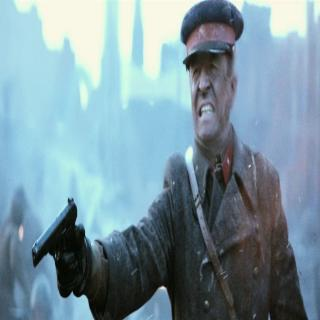gun: (29, 198, 89, 294)
